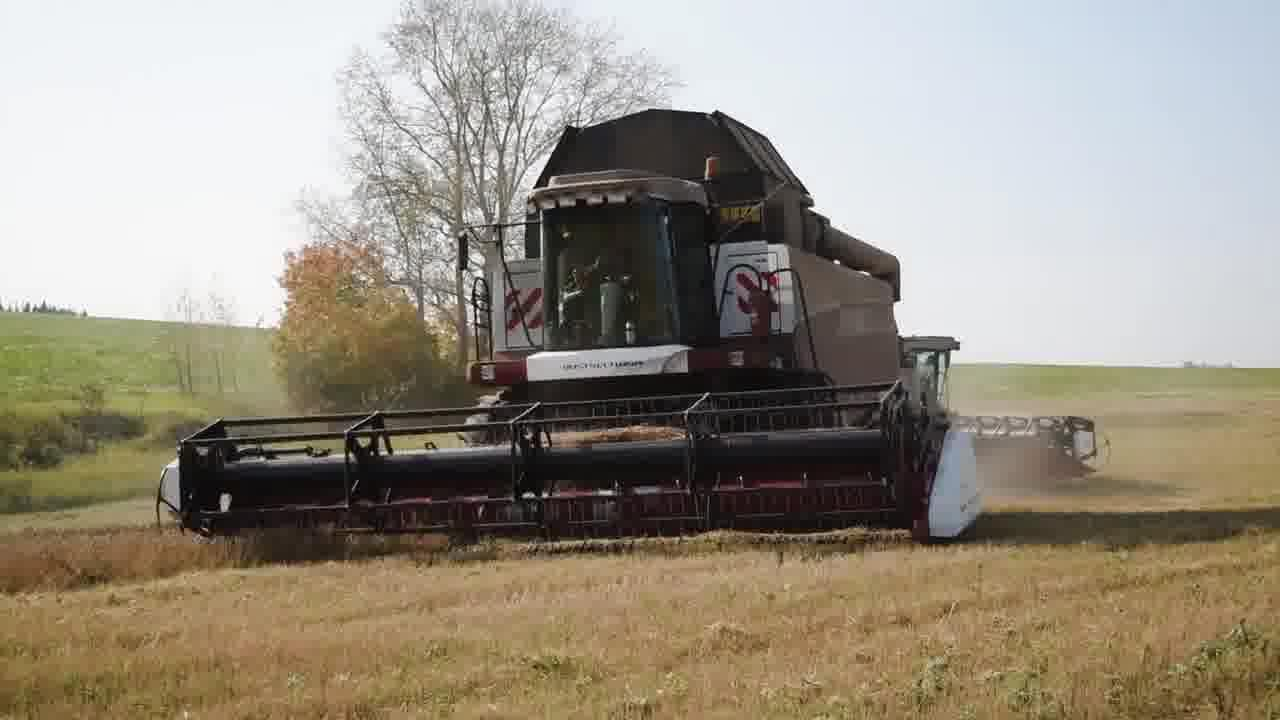combine harvester: (151, 102, 1117, 551)
